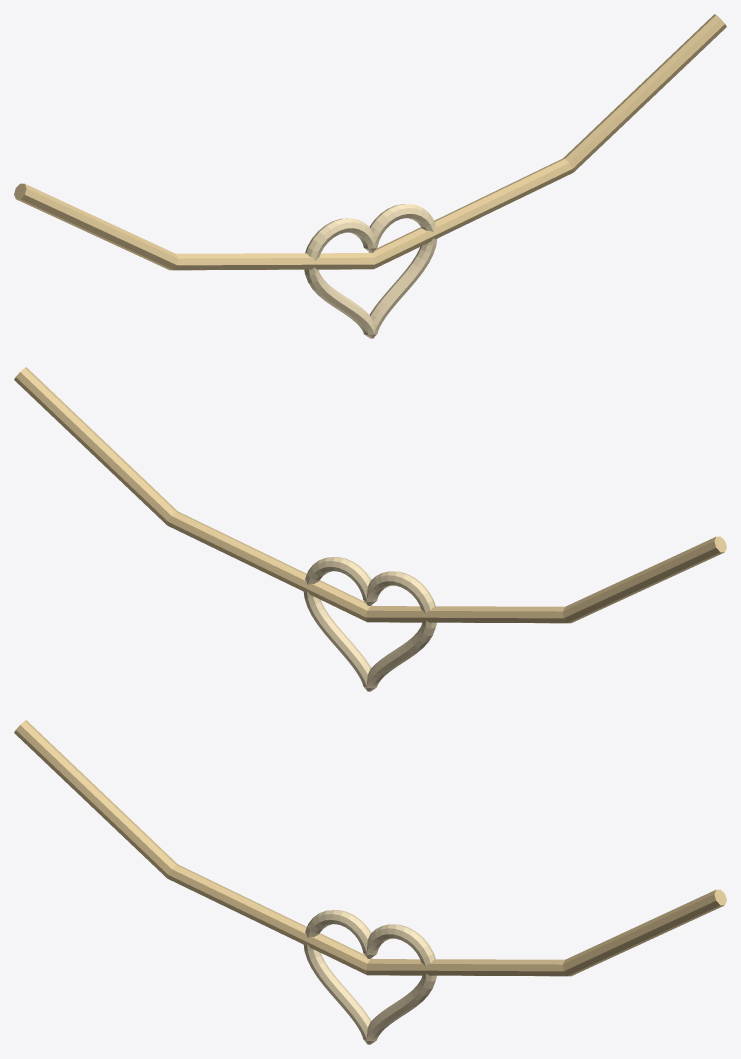
The model's file is ACC_Heart_Chain.glb.
3 renders of one model, top to bottom at view 1: azimuth 30°, elevation 25°; view 2: azimuth 150°, elevation 25°; view 3: azimuth 330°, elevation 25°, orthographic.
Parts seen in each view (by area): view 1: ACC_Heart_Chain_1, ACC_Heart_Chain_2; view 2: ACC_Heart_Chain_1, ACC_Heart_Chain_2; view 3: ACC_Heart_Chain_1, ACC_Heart_Chain_2.
Boxes of the visible parts, <box> form: ACC_Heart_Chain_1: <box>14,14,726,270</box>; ACC_Heart_Chain_2: <box>304,204,437,338</box>; ACC_Heart_Chain_1: <box>14,367,726,623</box>; ACC_Heart_Chain_2: <box>303,557,436,691</box>; ACC_Heart_Chain_1: <box>14,720,726,976</box>; ACC_Heart_Chain_2: <box>303,910,436,1044</box>.
Size of the model in its own units: 0.1721 by 0.0556 by 0.0038.
